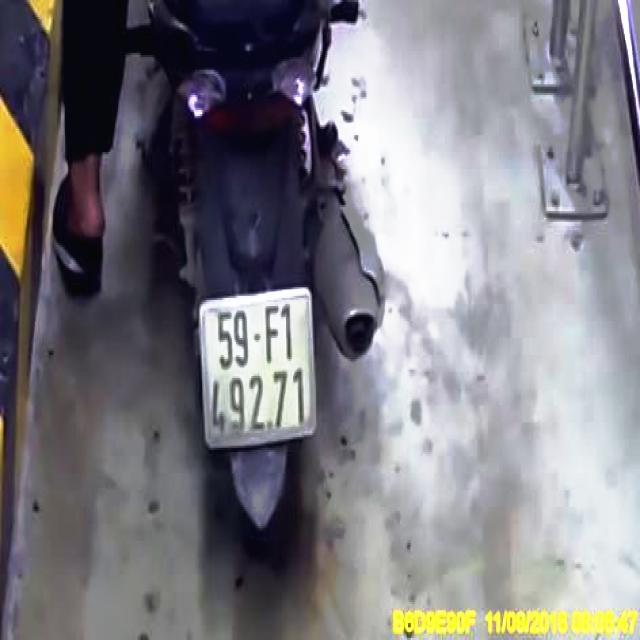license_plate: (204, 294, 316, 444)
